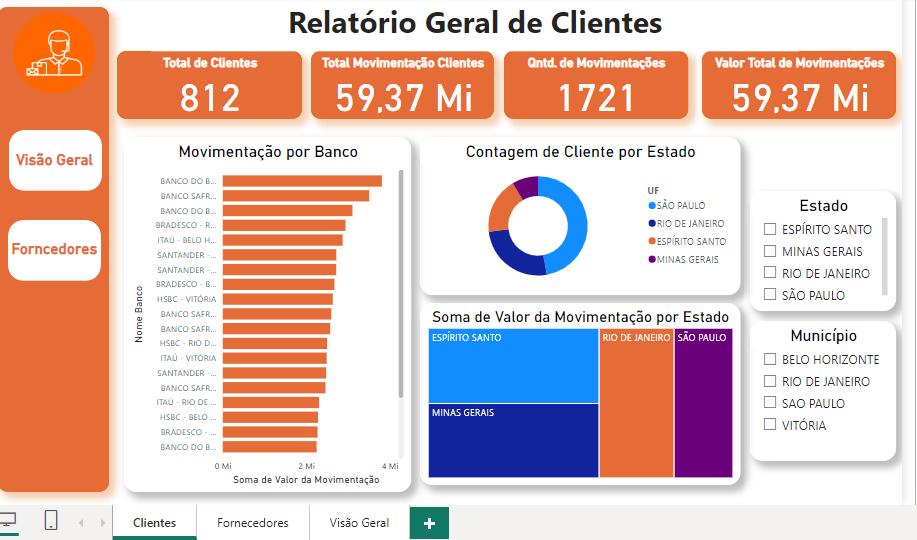

Layout of this report page (visuals, bound fields, positions):
{"tool":"powerbi","page":{"name":"Clientes","canvas":[1280,720],"ordinal":0},"visuals":[{"type":"shape","box":[0,14.2,157.3,687.4],"z":0},{"type":"card","title":"Total de Clientes","fields":{"Values":["CountNonNull(Cliente.Id Cliente)"]},"box":[180,114.8,262.2,96.4],"z":1000},{"type":"card","title":"Qntd. de Movimentações","fields":{"Values":["CountNonNull(Recebimentos.Valor da Movimentação)"]},"box":[725.7,114.8,260.8,96.4],"z":2000},{"type":"clusteredBarChart","title":"Movimentação por Banco","fields":{"Category":["Banco.Nome Banco"],"Y":["Sum(Recebimentos.Valor da Movimentação)"]},"box":[180,235.3,406.8,466.3],"z":3000},{"type":"donutChart","fields":{"Category":["Cliente.UF"],"Y":["CountNonNull(Cliente.Id Cliente)"]},"box":[598.1,235.3,453.5,223.9],"z":4000},{"type":"slicer","title":"Estado","fields":{"Values":["Banco.UF"]},"box":[1065.8,275,206.9,170.1],"z":5000},{"type":"card","title":"Total Movimentação Clientes","fields":{"Values":["Sum(Recebimentos.Valor da Movimentação)"]},"box":[455,114.8,259.4,96.4],"z":6000},{"type":"card","title":"Valor Total de Movimentações","fields":{"Values":["Sum(Recebimentos.Valor da Movimentação)"]},"box":[997.8,114.8,275,96.4],"z":7000},{"type":"treemap","fields":{"Values":["Sum(Recebimentos.Valor da Movimentação)"],"Group":["Banco.UF"]},"box":[598.1,477.6,453.5,223.9],"z":8000},{"type":"slicer","title":"Município","fields":{"Values":["Cliente.Municipio"]},"box":[1065.8,459.2,206.9,198.4],"z":9000},{"type":"textbox","box":[216.9,0,918.4,76.5],"z":10000},{"type":"actionButton","title":"Fornecedores","box":[5.7,211.2,146,58.1],"z":11000},{"type":"actionButton","title":"Visão Geral","box":[5.7,300.5,146,56.7],"z":12000},{"type":"shape","box":[86.5,56.7,18.4,38.3],"z":13000},{"type":"shape","box":[66.7,37.4,20.2,57.6],"z":14000},{"type":"shape","box":[48,20.2,18.7,74.9],"z":15000}]}

Visuals, with their boxes on the page's 1280x720 design canvas (x1, y1, x2, y2). These are canvas units, not pixel positions in the 917x540 screenshot, which may show the page scaled, cropped or inside an application window:
shape: BBox(0, 14, 157, 702)
"Total de Clientes" card: BBox(180, 115, 442, 211)
"Qntd. de Movimentações" card: BBox(726, 115, 986, 211)
"Movimentação por Banco" clusteredBarChart: BBox(180, 235, 587, 702)
donutChart - Cliente.UF x CountNonNull(Cliente.Id Cliente): BBox(598, 235, 1052, 459)
"Estado" slicer: BBox(1066, 275, 1273, 445)
"Total Movimentação Clientes" card: BBox(455, 115, 714, 211)
"Valor Total de Movimentações" card: BBox(998, 115, 1273, 211)
treemap - Sum(Recebimentos.Valor da Movimentação) x Banco.UF: BBox(598, 478, 1052, 702)
"Município" slicer: BBox(1066, 459, 1273, 658)
textbox: BBox(217, 0, 1135, 76)
"Fornecedores" actionButton: BBox(6, 211, 152, 269)
"Visão Geral" actionButton: BBox(6, 300, 152, 357)
shape: BBox(86, 57, 105, 95)
shape: BBox(67, 37, 87, 95)
shape: BBox(48, 20, 67, 95)
